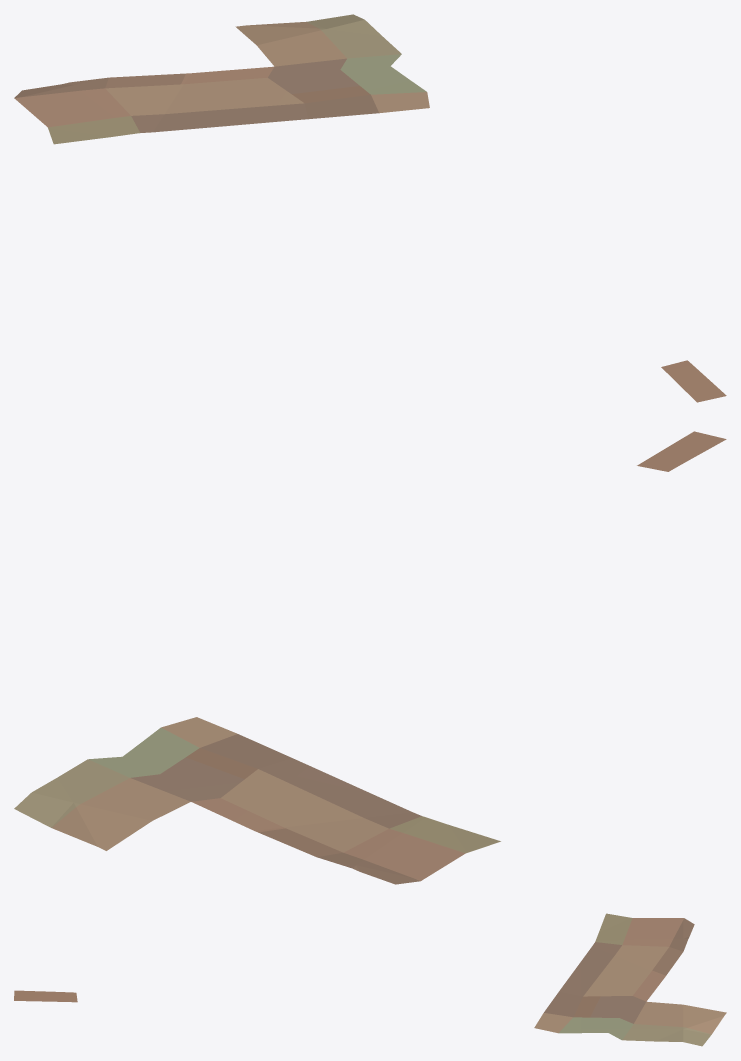
File: farm_10_20_soil.glb
The picture shows the model from 3 angles, top to bottom: view 1: azimuth 30°, elevation 25°; view 2: azimuth 150°, elevation 25°; view 3: azimuth 270°, elevation 25°; orthographic projection. The views are drawn at different scales.
Parts seen in each view (by area): view 1: geometry_0; view 2: geometry_0; view 3: geometry_0.
Boxes of the visible parts, x1=… form: geometry_0: x1=14, y1=14, x2=726, y2=402; geometry_0: x1=14, y1=431, x2=726, y2=884; geometry_0: x1=14, y1=913, x2=726, y2=1046.
Bounding box in the file's own units: 233 × 8.56 × 557.
